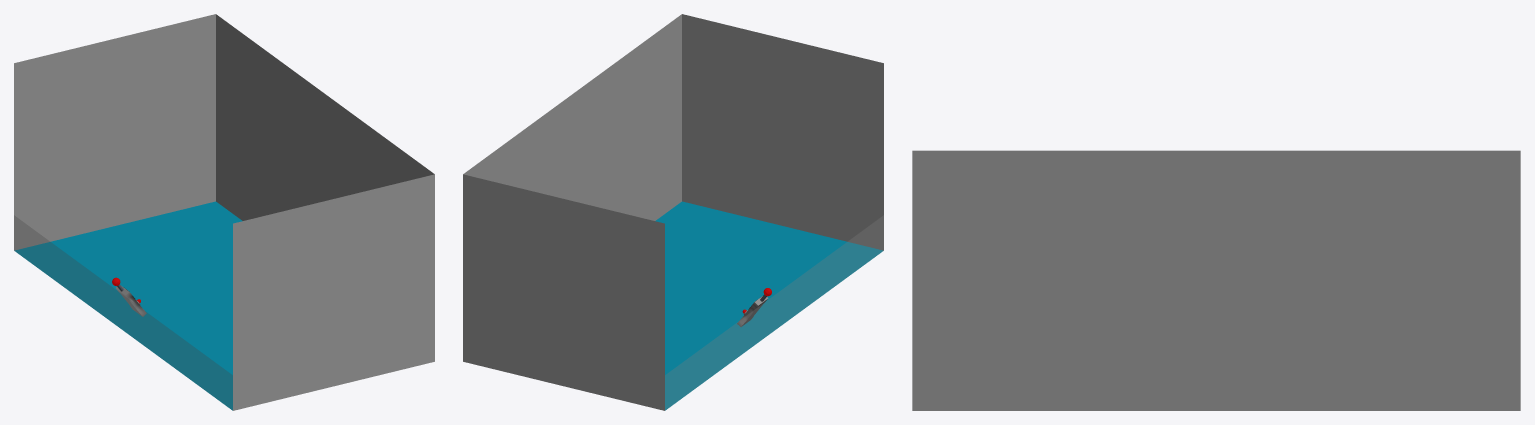
Rendered from Hapitcs_Room.fbx.
3 views of the same model, side by side, from view 1: azimuth 30°, elevation 25°; view 2: azimuth 150°, elevation 25°; view 3: azimuth 270°, elevation 25° (orthographic). The views are drawn at different scales.
Parts seen in each view (by area): view 1: HapticsRoom; view 2: HapticsRoom; view 3: HapticsRoom.
Part boxes in pixels (<box>): HapticsRoom: <box>14,14,434,410</box>; HapticsRoom: <box>463,14,883,410</box>; HapticsRoom: <box>912,150,1520,410</box>.
Size of the model in its own units: 29.81 by 25.93 by 54.93.
